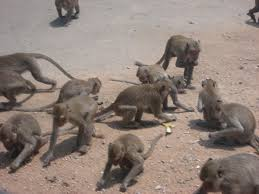monkey: (13, 49, 115, 145), (162, 27, 217, 87), (197, 150, 259, 190)
